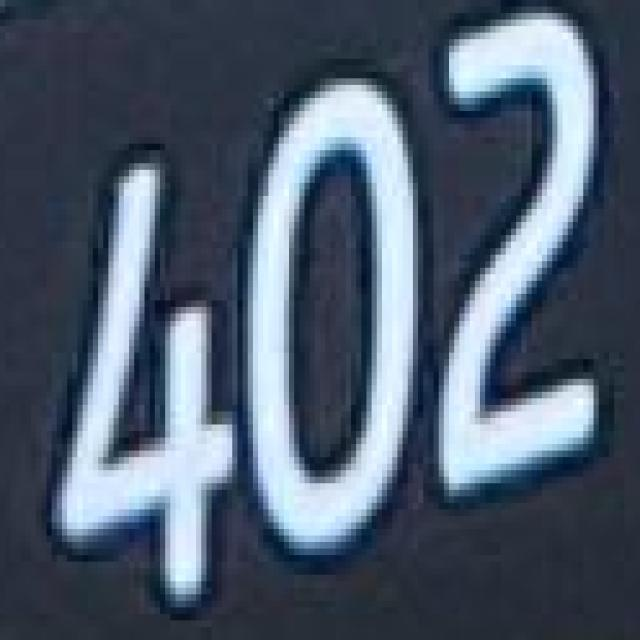character: (43, 142, 245, 621), (436, 7, 623, 512), (243, 67, 426, 567)
